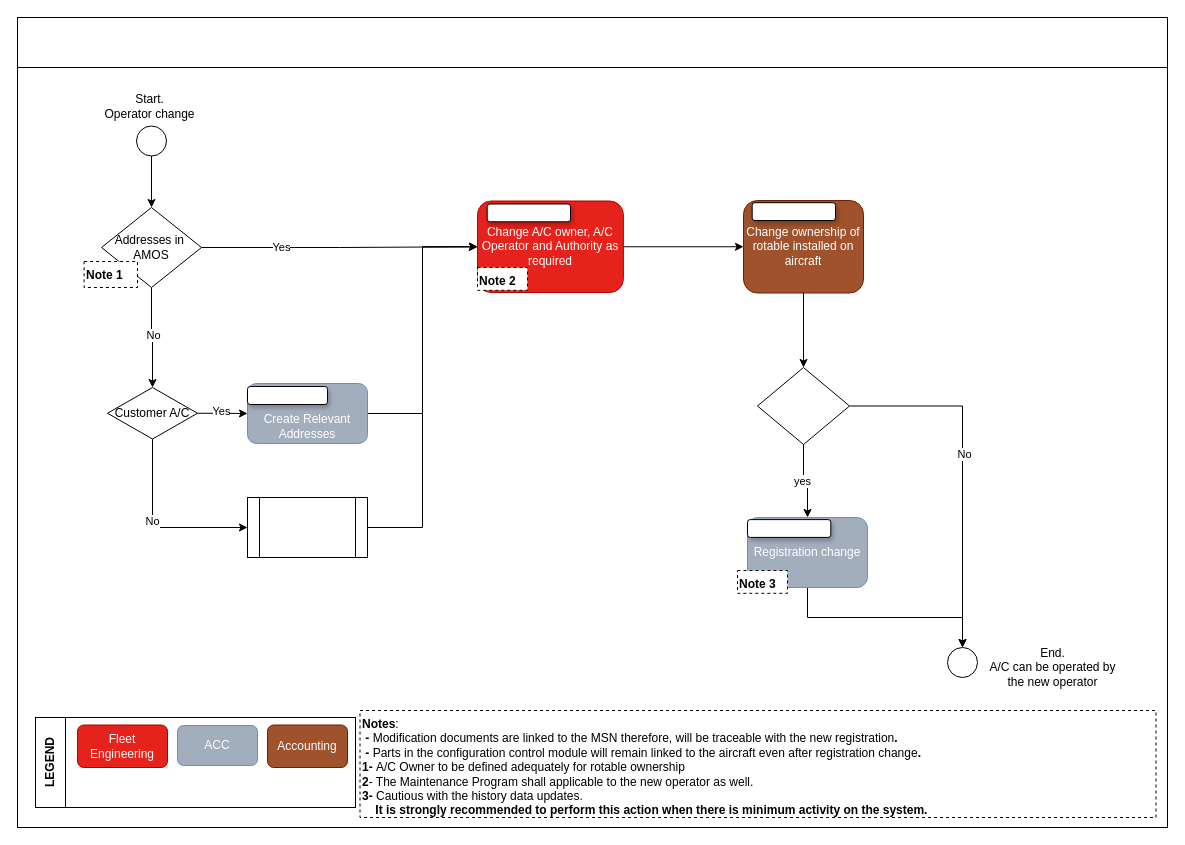
The diagram is 1185 pixels wide and 845 high, and some of its shapes have lost their labels. The centre of each missing label's shape, as x and y in pixels:
02.03b - Multi-Operator A/C Transfer - "One CAMO EASA Regulation": (592,42)
04.01 Company Organization: (307,527)
Desktop 1775: (794,213)
Desktop 254: (789,529)
Desktop 308: (529,214)
Desktop 53: (288,397)
Registration Change?: (803,405)
